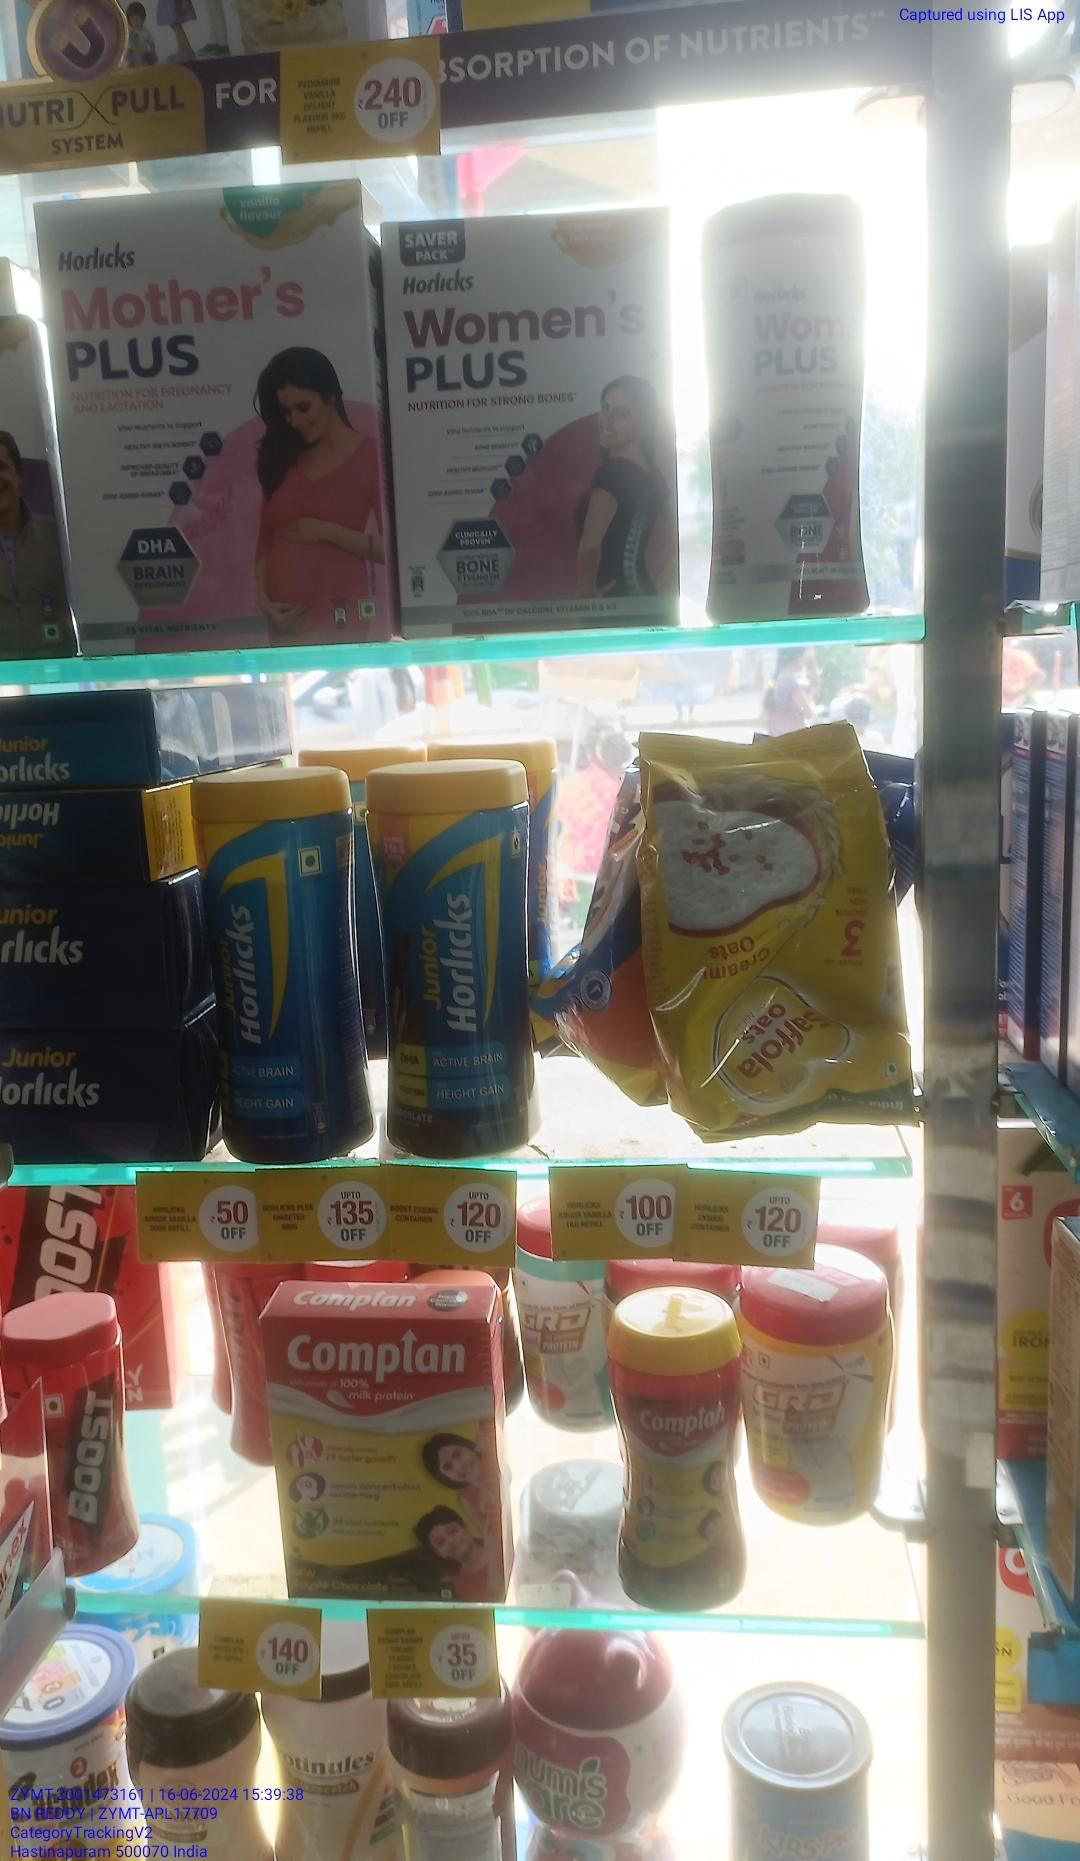COMPLAN_CHOCOLATE_200_GMS_JAR: (608, 1310, 747, 1608)
COMPLAN_CHOCOLATE_200_GMS_PACK: (275, 1313, 499, 1604)
